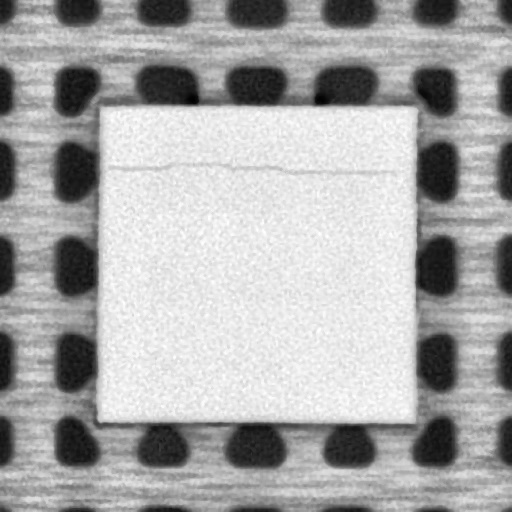DIE_CRACK: (103, 158, 397, 177)
